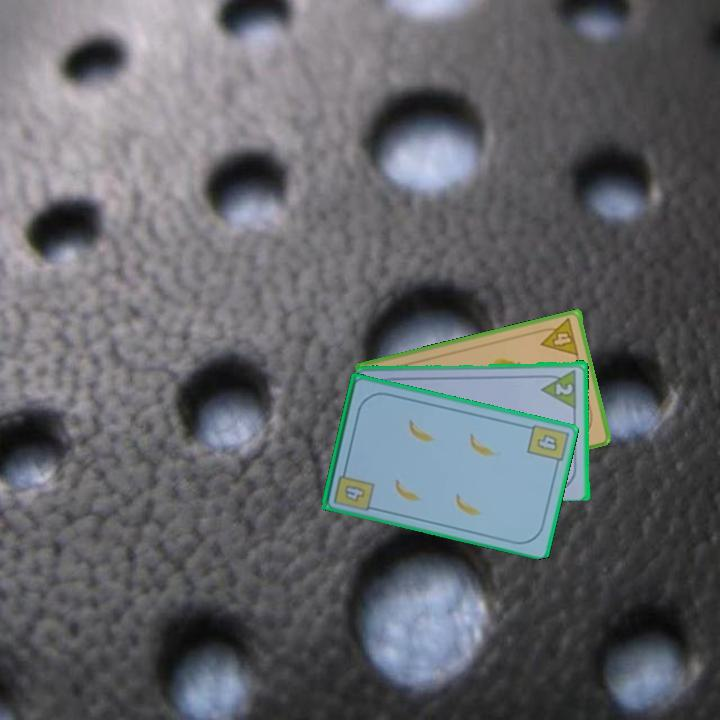2p: (552, 380, 576, 397)
4b: (524, 420, 570, 470), (341, 481, 368, 504)
4p: (535, 315, 582, 359)
